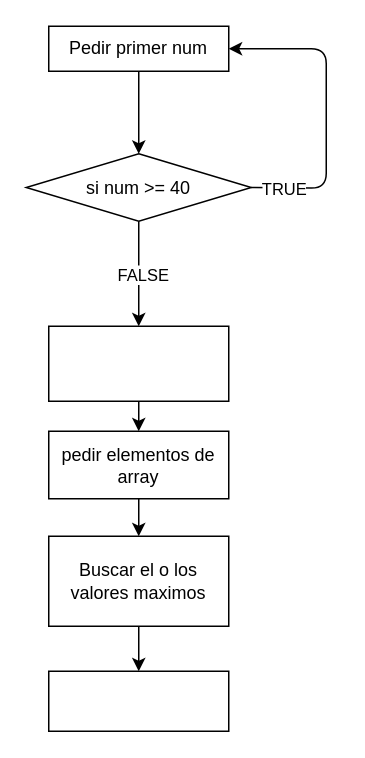
Some shapes in this 365 by 758 pixel diagram are drawn without their labels. The shapes that lost their labels are listed below. From the top down, each one's box as (x1, y1, x2, y2) in pixels, then its label:
(47, 325, 229, 401): Pedir cantidad N de elementos de array
(47, 670, 229, 731): Imprimir el valor y sus indices
